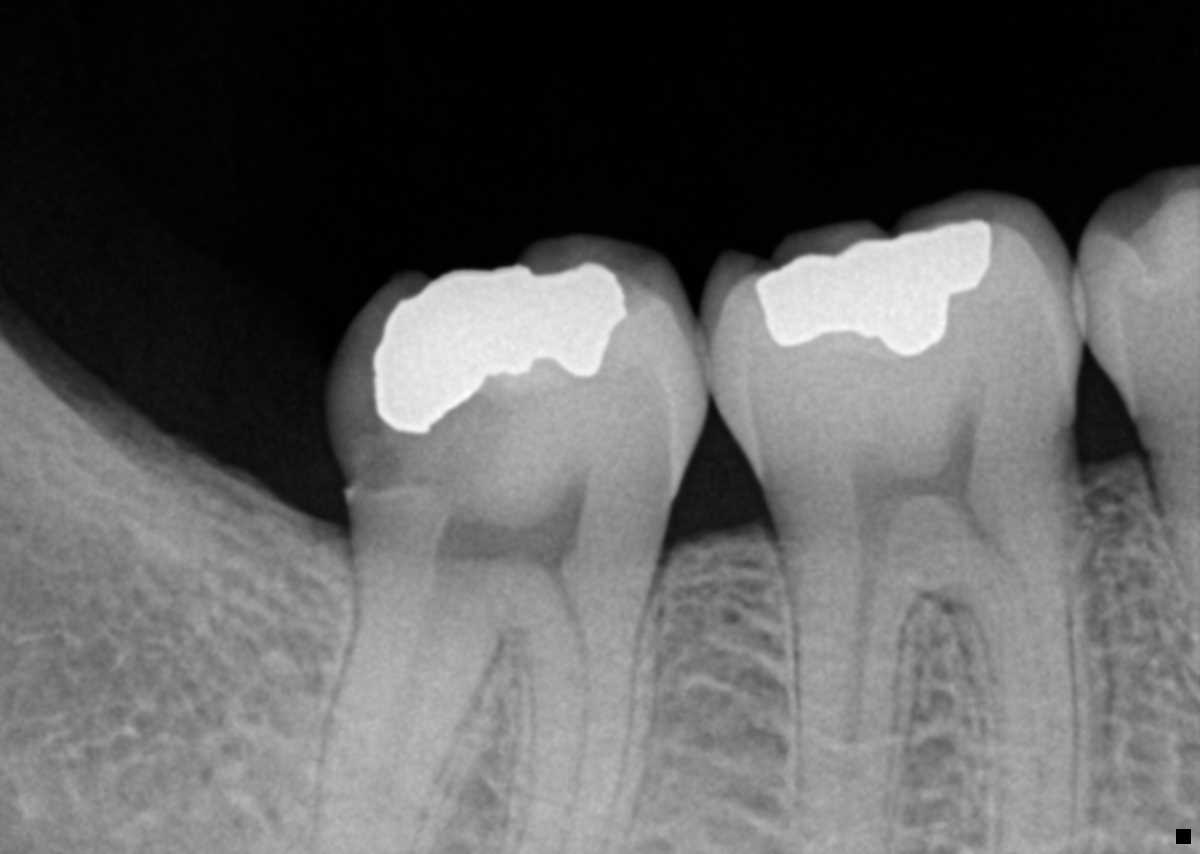Distal Canal: (356, 560, 484, 823), (836, 517, 893, 850)
Distal Root: (307, 535, 521, 854), (772, 506, 921, 854)
Main Root: (1144, 442, 1200, 620)
Mesial Canal: (947, 496, 1048, 702), (525, 553, 591, 852)
Mesial Root: (928, 460, 1084, 854), (509, 543, 661, 854)
decay: (326, 313, 507, 495)
